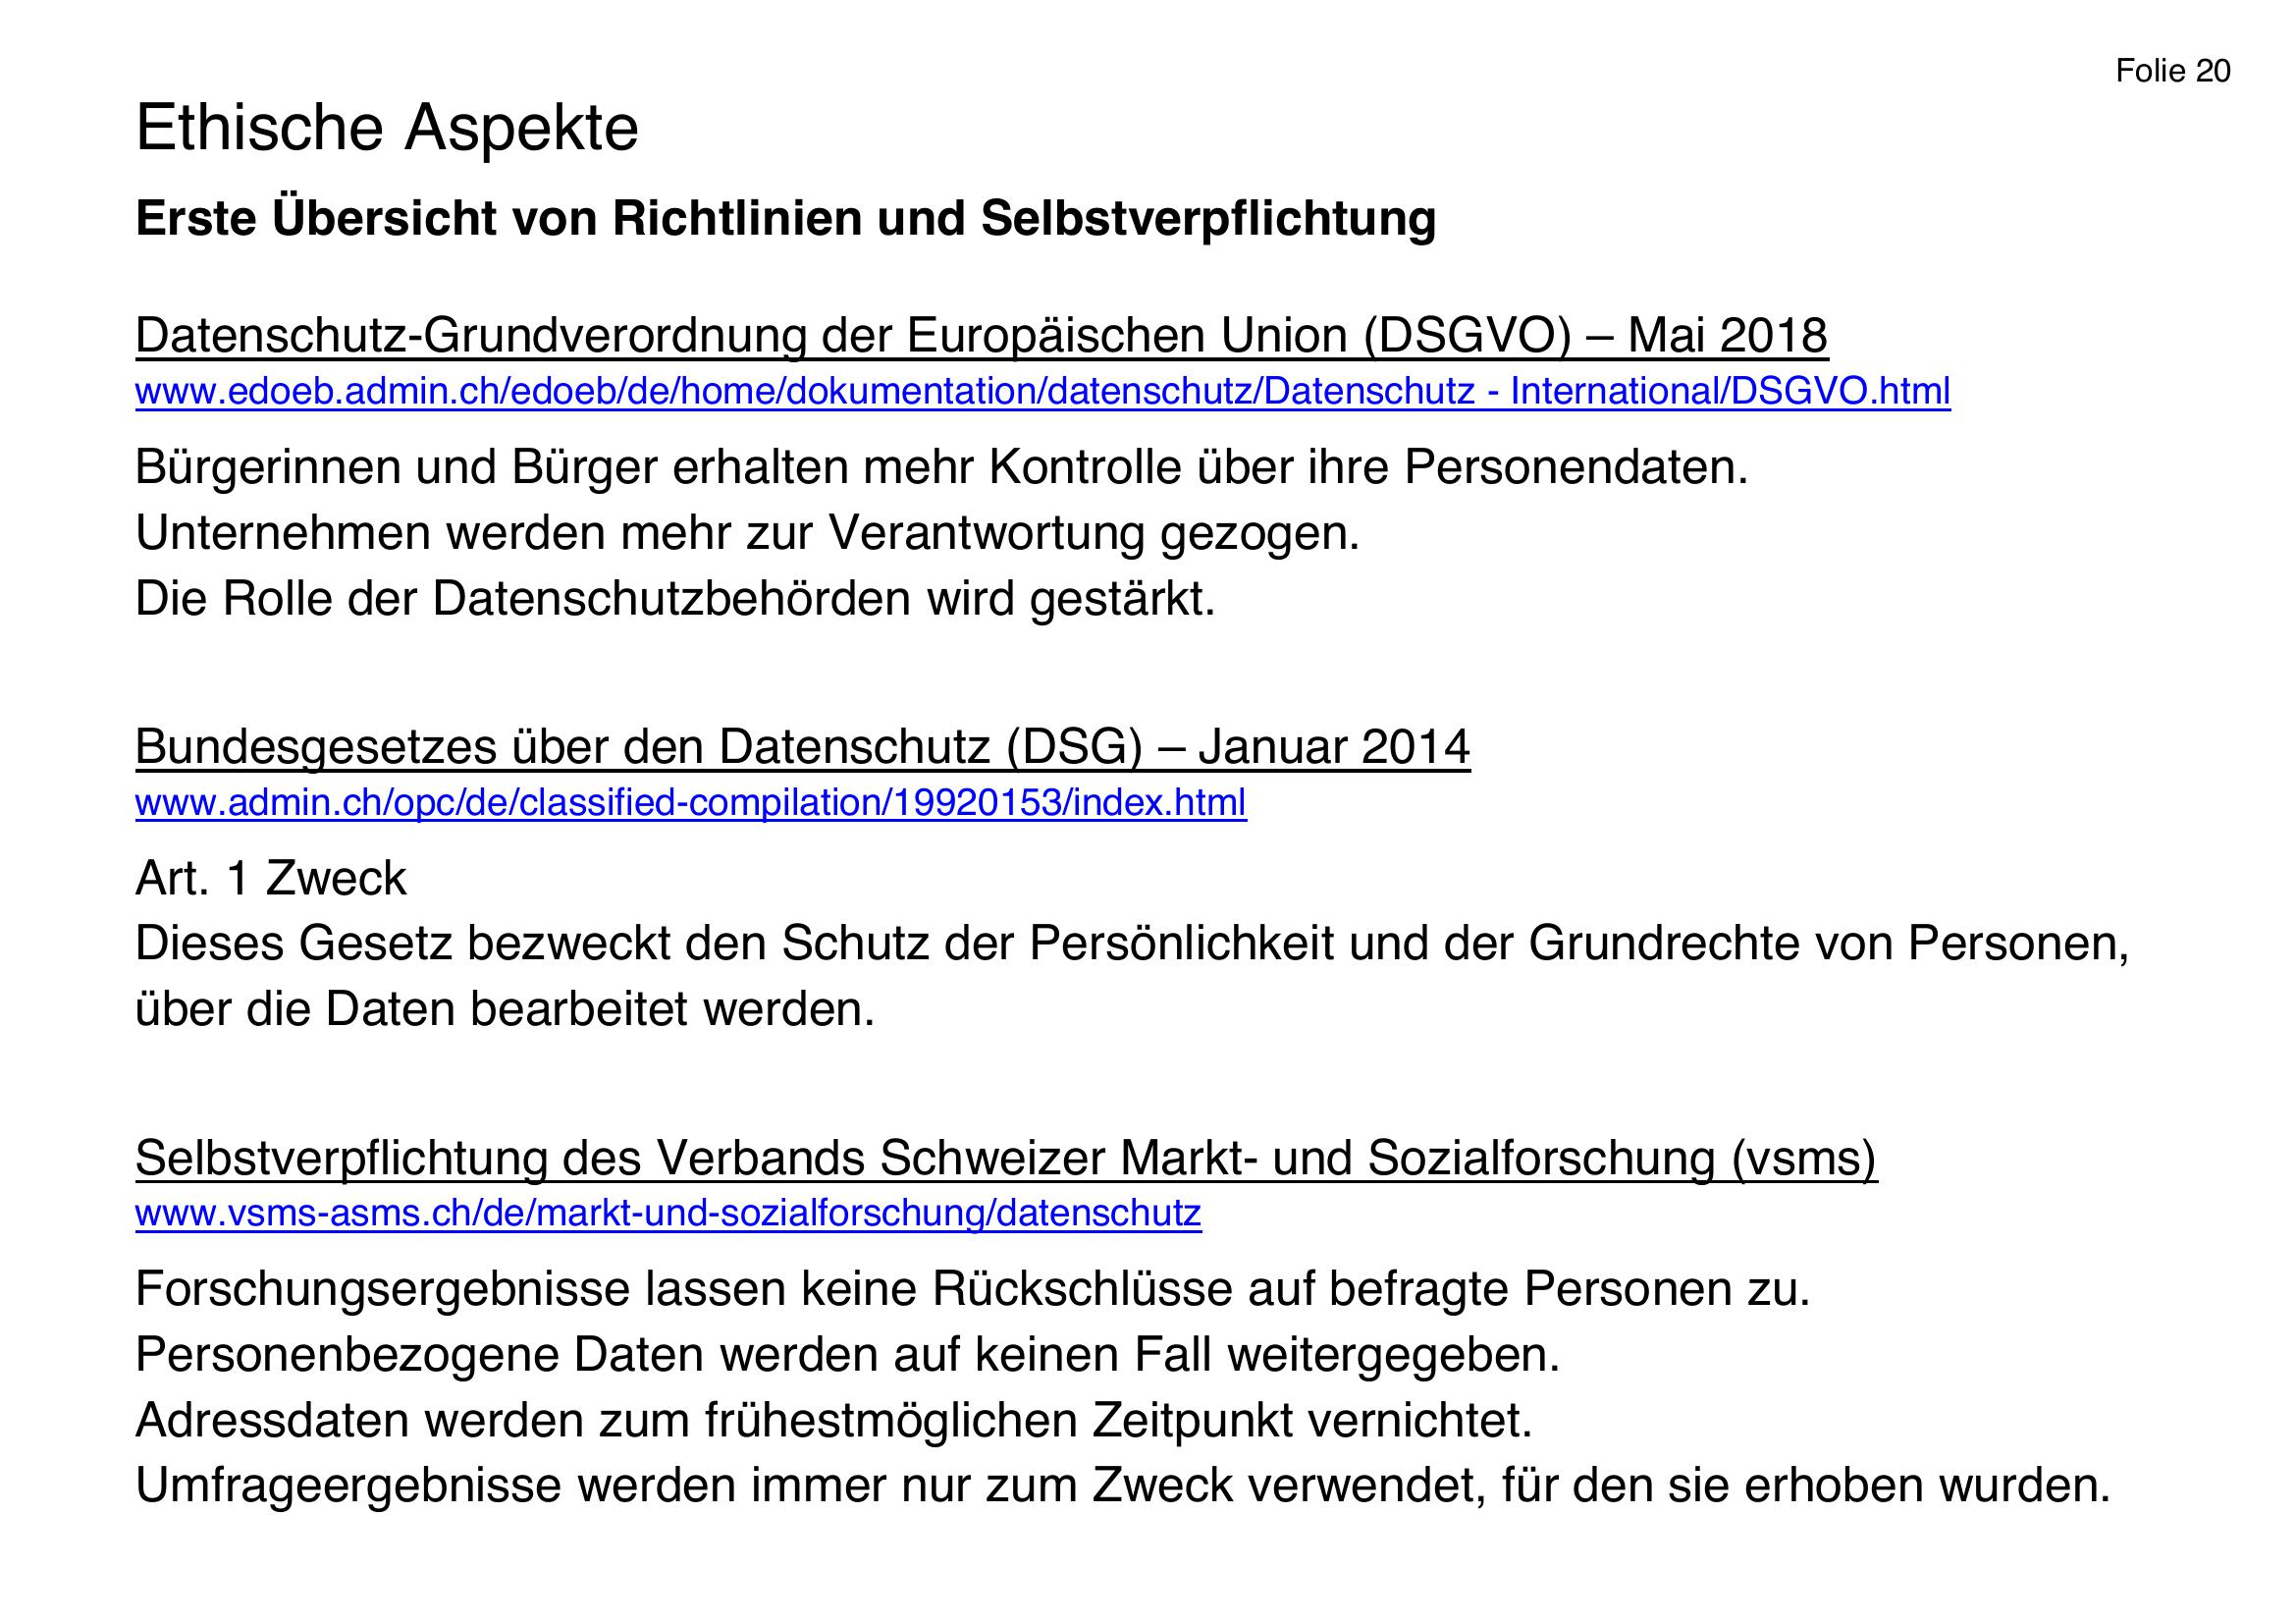Title: (121, 90, 669, 181)
